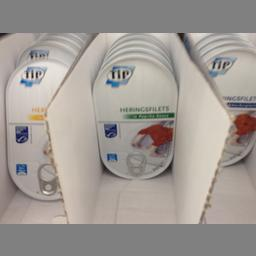fish: (92, 54, 178, 180), (4, 58, 68, 202), (206, 46, 255, 170)
